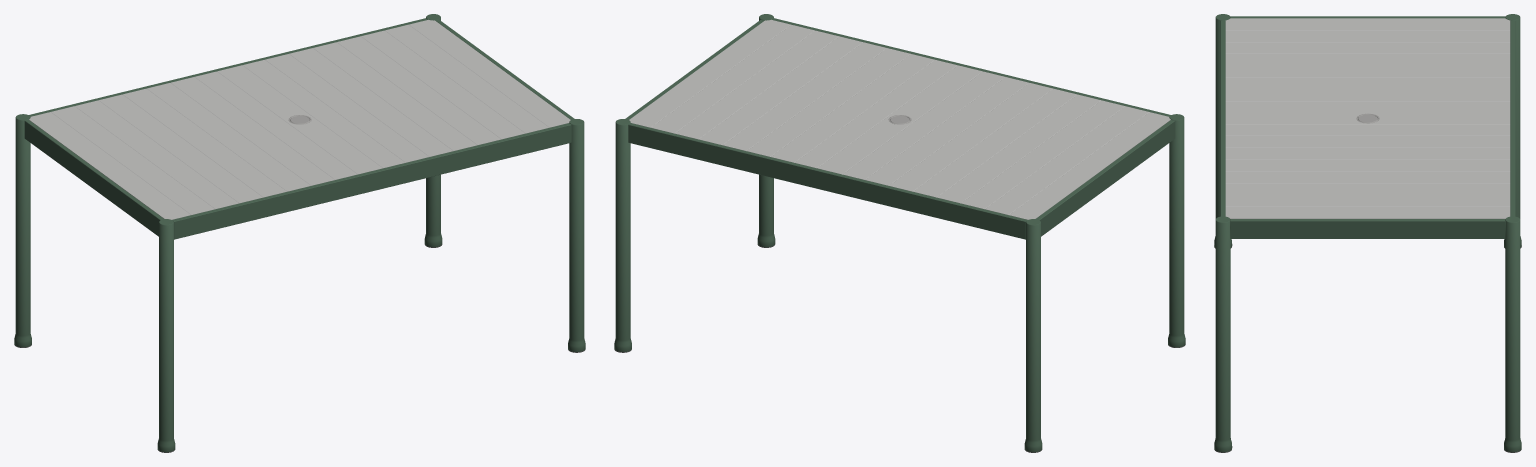
File: 02 - SEGERÖN Table, outdoor - dark greenlight grey 91x147 cm.glb
The picture shows the model from 3 angles, left to right: view 1: azimuth 30°, elevation 25°; view 2: azimuth 150°, elevation 25°; view 3: azimuth 270°, elevation 25°; orthographic projection.
Parts seen in each view (by area): view 1: Mesh_0; view 2: Mesh_0; view 3: Mesh_0.
Boxes of the visible parts, x1=… form: Mesh_0: x1=14, y1=14, x2=585, y2=452; Mesh_0: x1=614, y1=14, x2=1185, y2=452; Mesh_0: x1=1214, y1=14, x2=1521, y2=452.
Size of the model in its own units: 1.47 by 0.75 by 0.91.
